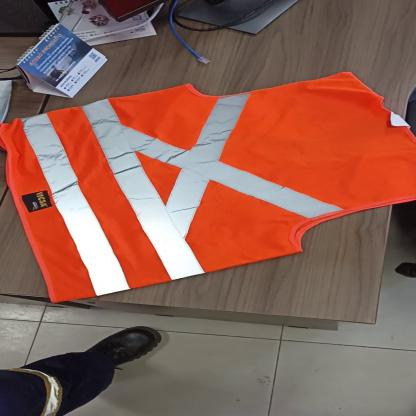colete: (0, 68, 416, 307)
